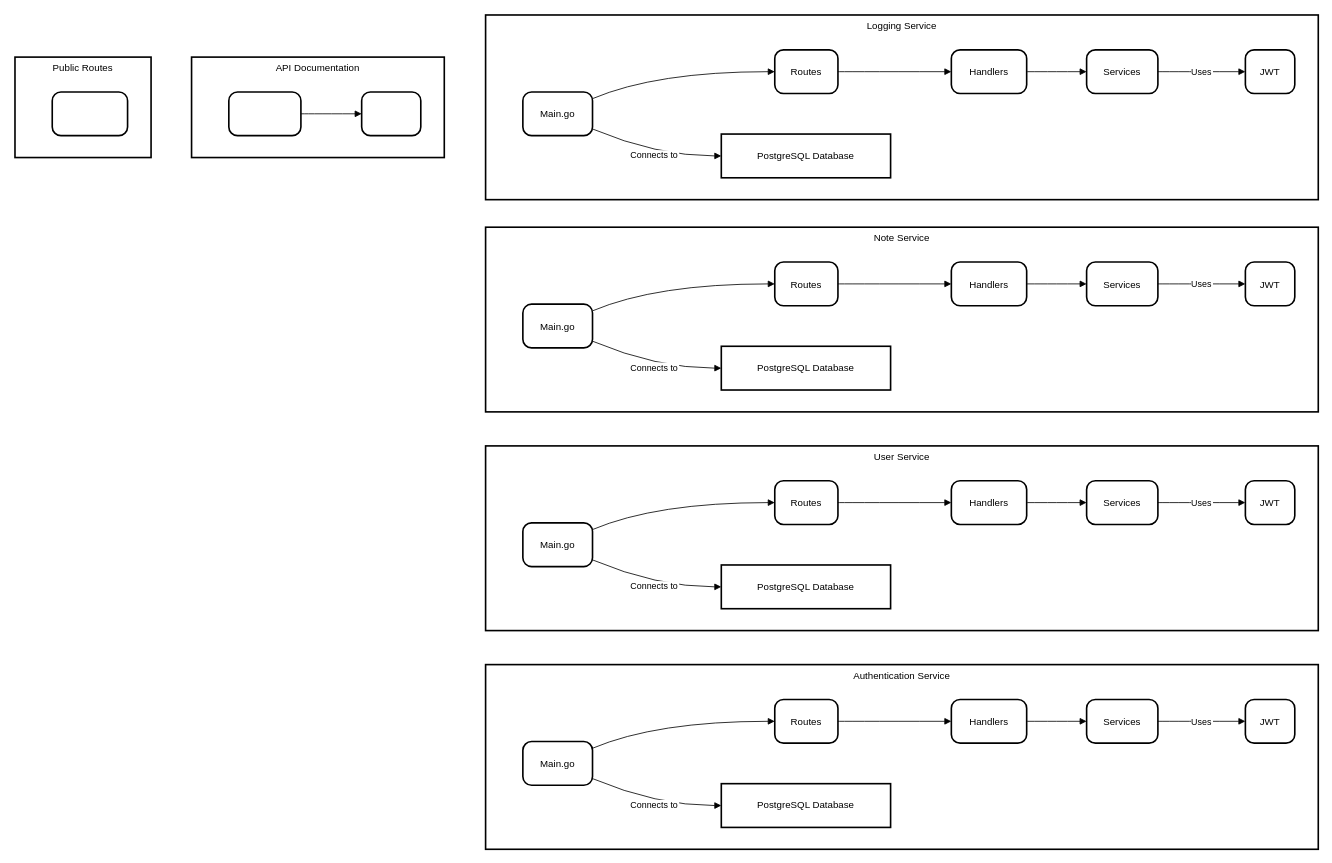
Image size: 1332x863. Some labels were removed from this diagram. Each missing label, with the centre of its shape:
/uploads: (x=89, y=113)
Scalar: (x=390, y=113)
Swagger: (x=264, y=113)
